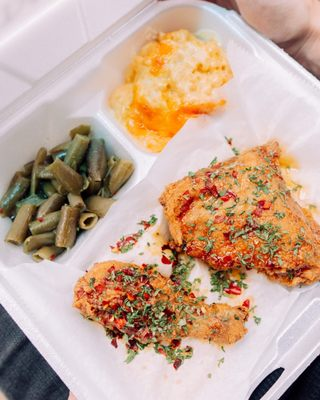sushi: (95, 2, 241, 159)
